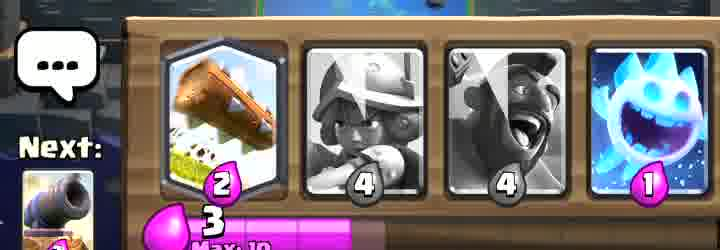cannon: (21, 171, 94, 250)
hog-rider: (442, 62, 536, 201)
ice-spirit: (595, 45, 711, 200)
log: (168, 42, 279, 182)
